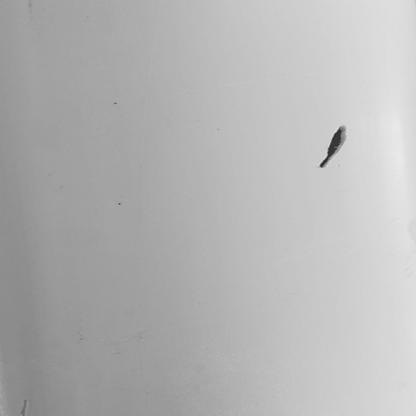kongdong: (316, 125, 351, 169)
sunshang: (19, 398, 28, 416)
